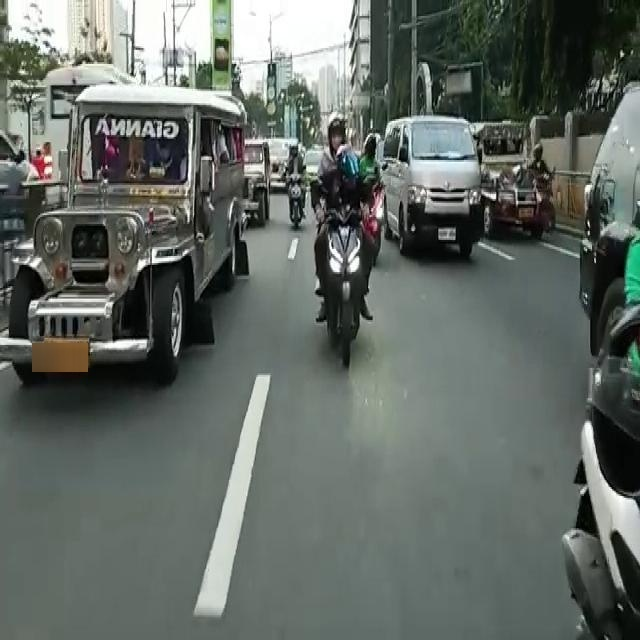car: (388, 120, 475, 259)
jeepney: (27, 96, 229, 399), (482, 130, 538, 233), (238, 143, 267, 227), (268, 141, 292, 195)
motorcycle: (321, 124, 367, 370), (358, 142, 376, 258), (287, 148, 313, 228), (538, 142, 558, 230)
